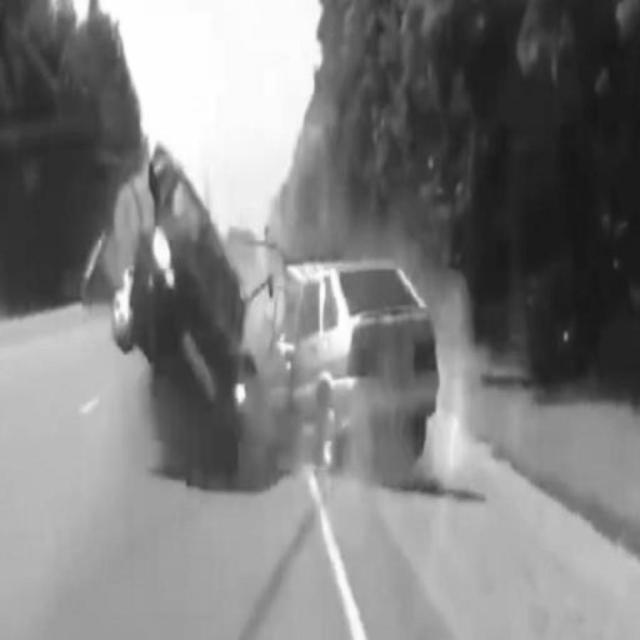accident: (101, 151, 438, 493)
